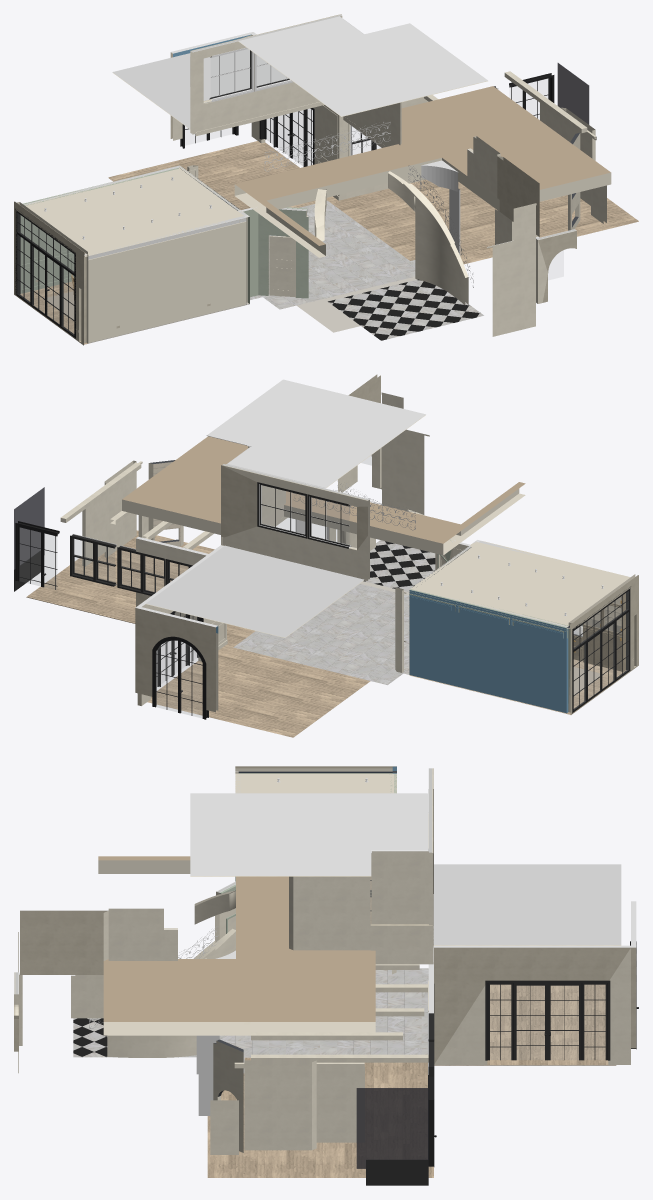
Rendered from dining-room-262d27f5f7b2.glb.
3 views of the same model, one above another, from view 1: azimuth 30°, elevation 25°; view 2: azimuth 150°, elevation 25°; view 3: azimuth 270°, elevation 25° (orthographic). The views are drawn at different scales.
Visible parts, largest first — view 1: dining-room-look-2575515a05775d9e, dining-room-look-9d91b47435c6fb33, dining-room-d999b7e09afcf2f4, dining-room-look-3b0077416469e01b, dining-room-2575515a05775d9e, dining-room-look-ba376bd68a22f7f3, dining-room-look-4a969f5cc1ae3dfe, dining-room-look-c4ac463b6a960119, dining-room-08d72923bcfd3529, dining-room-look-245f595ae2832e16, dining-room-look-d5a4a1b5d3594c04, dining-room-look-8c6a7019fd0063e7 (+36 smaller); view 2: dining-room-look-3b0077416469e01b, dining-room-b19b106fc304963c, dining-room-look-9d91b47435c6fb33, dining-room-look-2575515a05775d9e, dining-room-look-4a969f5cc1ae3dfe, dining-room-2575515a05775d9e, dining-room-look-ba376bd68a22f7f3, dining-room-look-245f595ae2832e16, dining-room-08d72923bcfd3529, dining-room-look-969b861f9850351e, dining-room-look-b57b1dfcc6ff1bca, dining-room-look-d5a4a1b5d3594c04 (+23 smaller); view 3: dining-room-look-2575515a05775d9e, dining-room-look-3b0077416469e01b, dining-room-look-9d91b47435c6fb33, dining-room-look-4a969f5cc1ae3dfe, dining-room-look-e706aa16b4547c37, dining-room-look-3d5fbc3a2a5f9c05, dining-room-look-5b6bbac285e58726, dining-room-look-69af8f587252f9fa, dining-room-look-ba376bd68a22f7f3, dining-room-look-62353aa10fc57f23, dining-room-look-cbd4bf73d9724a66, dining-room-look-32b959c9aa406288 (+18 smaller).
Boxes of the visible parts, box(x1,y1,x2,y2) form: dining-room-look-2575515a05775d9e: box(234, 86, 611, 257); dining-room-look-9d91b47435c6fb33: box(238, 16, 487, 116); dining-room-d999b7e09afcf2f4: box(88, 216, 246, 342); dining-room-look-3b0077416469e01b: box(108, 141, 638, 264); dining-room-2575515a05775d9e: box(15, 166, 249, 256); dining-room-look-ba376bd68a22f7f3: box(250, 200, 415, 309); dining-room-look-4a969f5cc1ae3dfe: box(112, 49, 288, 129); dining-room-look-c4ac463b6a960119: box(328, 279, 483, 340); dining-room-08d72923bcfd3529: box(15, 208, 75, 338); dining-room-look-245f595ae2832e16: box(190, 14, 342, 134); dining-room-look-d5a4a1b5d3594c04: box(487, 235, 535, 336); dining-room-look-8c6a7019fd0063e7: box(388, 171, 468, 305); dining-room-look-3b0077416469e01b: box(26, 530, 370, 737); dining-room-b19b106fc304963c: box(409, 590, 567, 713); dining-room-look-9d91b47435c6fb33: box(206, 379, 425, 488); dining-room-look-2575515a05775d9e: box(122, 436, 525, 555); dining-room-look-4a969f5cc1ae3dfe: box(146, 545, 364, 637); dining-room-2575515a05775d9e: box(410, 541, 637, 628); dining-room-look-ba376bd68a22f7f3: box(233, 584, 409, 684); dining-room-look-245f595ae2832e16: box(221, 464, 369, 580); dining-room-08d72923bcfd3529: box(572, 586, 630, 713); dining-room-look-969b861f9850351e: box(135, 606, 218, 712); dining-room-look-b57b1dfcc6ff1bca: box(152, 636, 208, 719); dining-room-look-d5a4a1b5d3594c04: box(382, 429, 429, 514); dining-room-look-2575515a05775d9e: box(98, 856, 375, 1035); dining-room-look-3b0077416469e01b: box(207, 984, 616, 1177); dining-room-look-9d91b47435c6fb33: box(190, 793, 428, 876); dining-room-look-4a969f5cc1ae3dfe: box(433, 864, 621, 945); dining-room-look-e706aa16b4547c37: box(434, 945, 630, 1064); dining-room-look-3d5fbc3a2a5f9c05: box(485, 980, 610, 1060); dining-room-look-5b6bbac285e58726: box(244, 1060, 316, 1150); dining-room-look-69af8f587252f9fa: box(289, 876, 370, 950); dining-room-look-ba376bd68a22f7f3: box(219, 968, 428, 1072); dining-room-look-62353aa10fc57f23: box(20, 910, 108, 974); dining-room-look-cbd4bf73d9724a66: box(356, 1088, 428, 1168); dining-room-look-32b959c9aa406288: box(371, 851, 428, 923).
Bounding box in the file's own units: 20 × 6.36 × 16.84.
47 materials, 17 textured.
